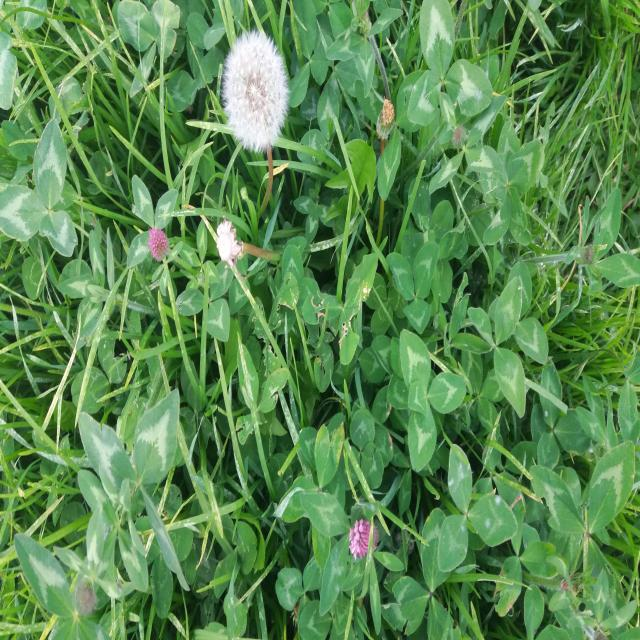Four Leaf Clover: (399, 329, 466, 473), (193, 325, 220, 368)
